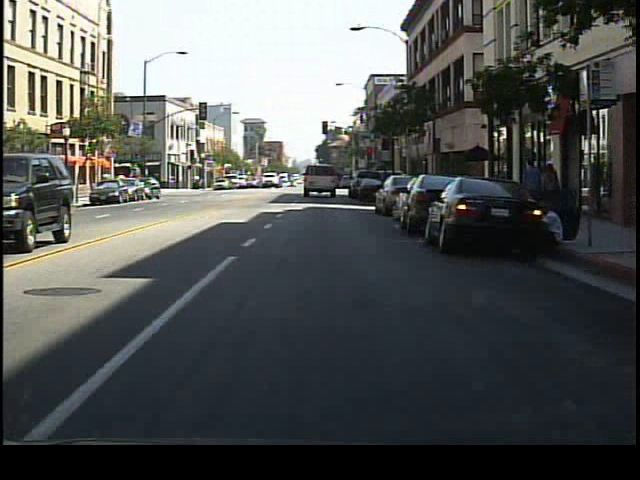person: (517, 151, 543, 224), (536, 158, 560, 222)
